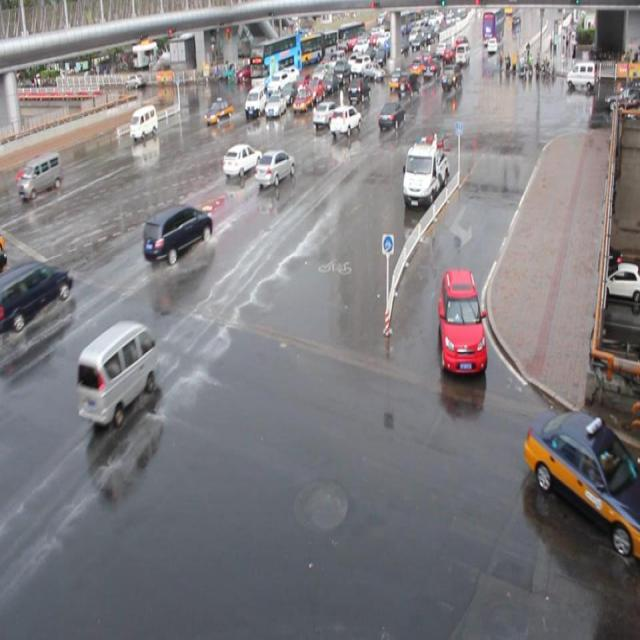bus: (401, 135, 448, 204)
car: (524, 405, 640, 556), (436, 266, 486, 374), (0, 258, 72, 325), (142, 202, 213, 266), (254, 148, 295, 186), (222, 143, 262, 178), (15, 154, 48, 186), (329, 105, 361, 136), (204, 96, 233, 124), (377, 101, 405, 129), (312, 100, 340, 126), (395, 70, 420, 98), (346, 78, 371, 103), (264, 90, 286, 116), (267, 70, 289, 96), (291, 85, 312, 112), (305, 75, 324, 99), (279, 79, 298, 101), (292, 70, 310, 92)
truck: (75, 319, 156, 426), (17, 151, 64, 200), (130, 104, 158, 139), (248, 84, 270, 115)
